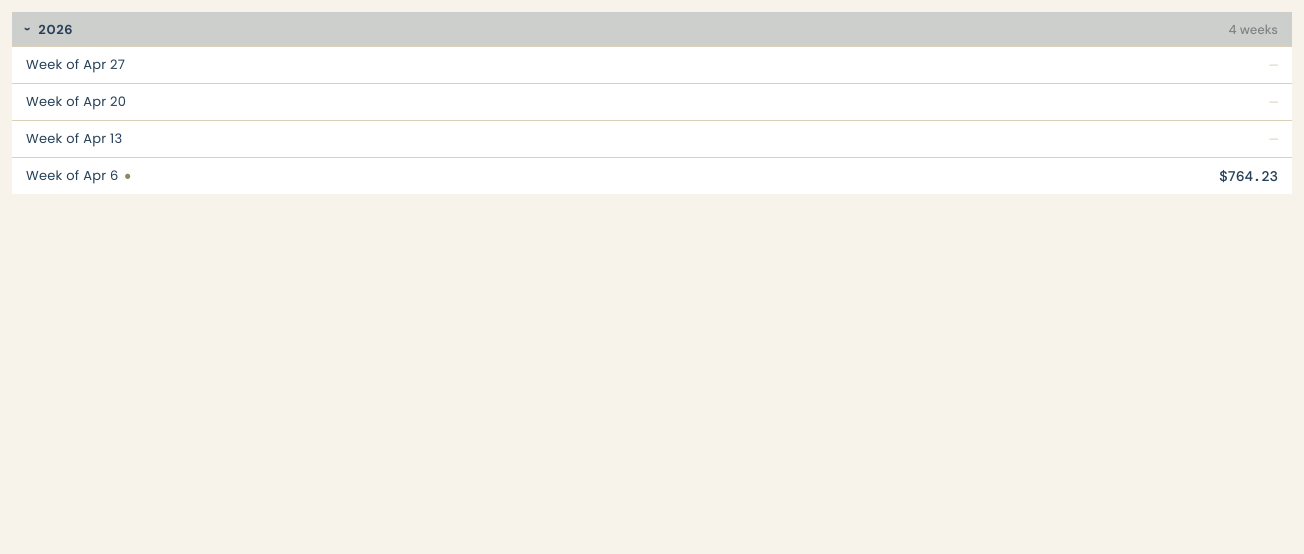
Test: CheckLog — edit history popover › opens history popover when edit indicator is clicked (lines 280-326)
The width and height of the screenshot is (1304, 554).
Click the button titled "View edit history".
click(128, 176)  # box left=125, top=167, right=131, bottom=185
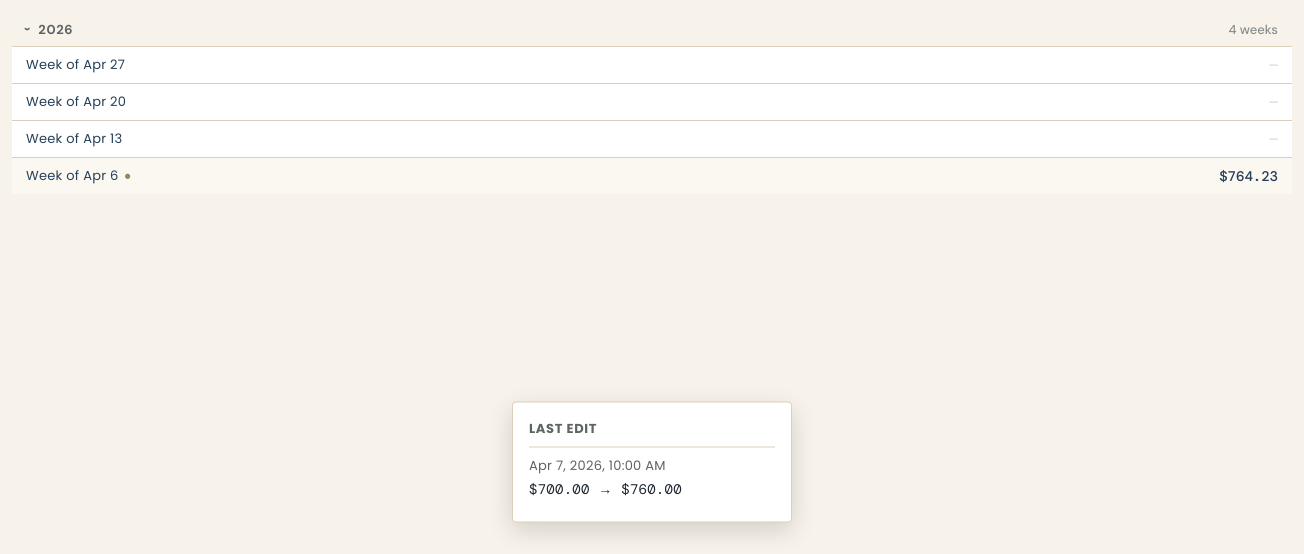
Now the text "Last Edit" is shown, box left=529, top=418, right=597, bottom=438
